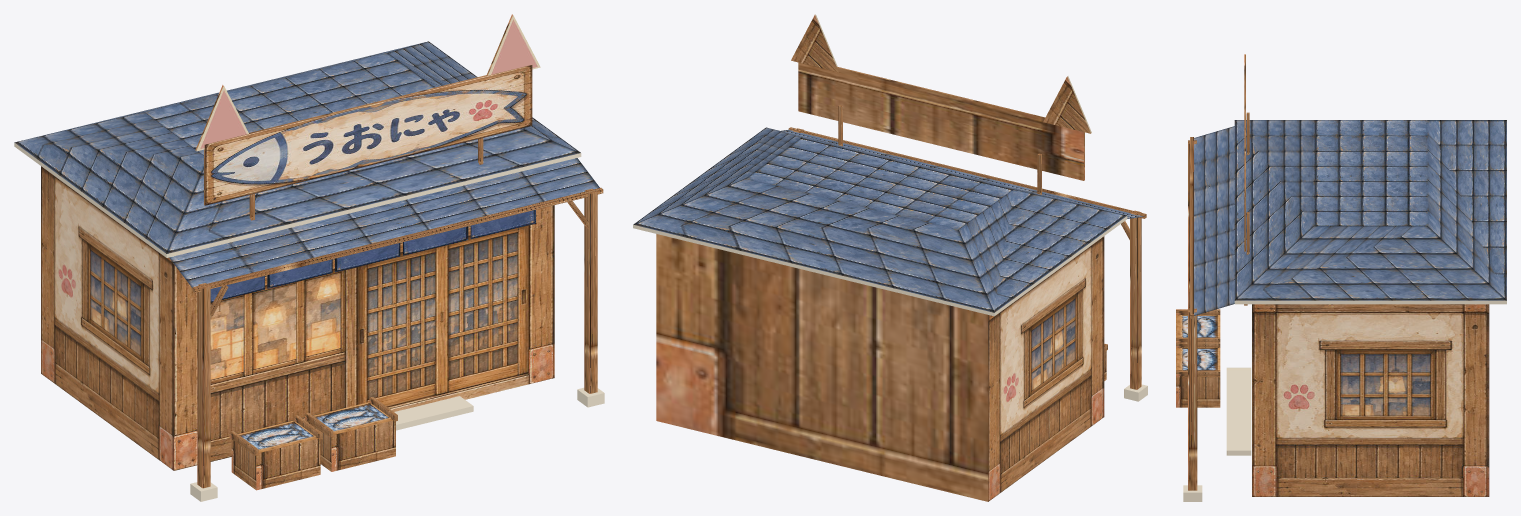
Rendered from nyanisyarud-harbor-fish.glb.
3 views of the same model, side by side, from view 1: azimuth 30°, elevation 25°; view 2: azimuth 150°, elevation 25°; view 3: azimuth 270°, elevation 25° (orthographic). The views are drawn at different scales.
Visible parts, largest first — view 1: Uonya_Fish_Shop; view 2: Uonya_Fish_Shop; view 3: Uonya_Fish_Shop.
Part boxes in pixels (x1,y1,x2,y2): Uonya_Fish_Shop: (14,14,604,501); Uonya_Fish_Shop: (633,14,1147,501); Uonya_Fish_Shop: (1176,54,1506,501).
Size of the model in its own units: 2.7 by 2.35 by 2.09.
1 material, 1 textured.
